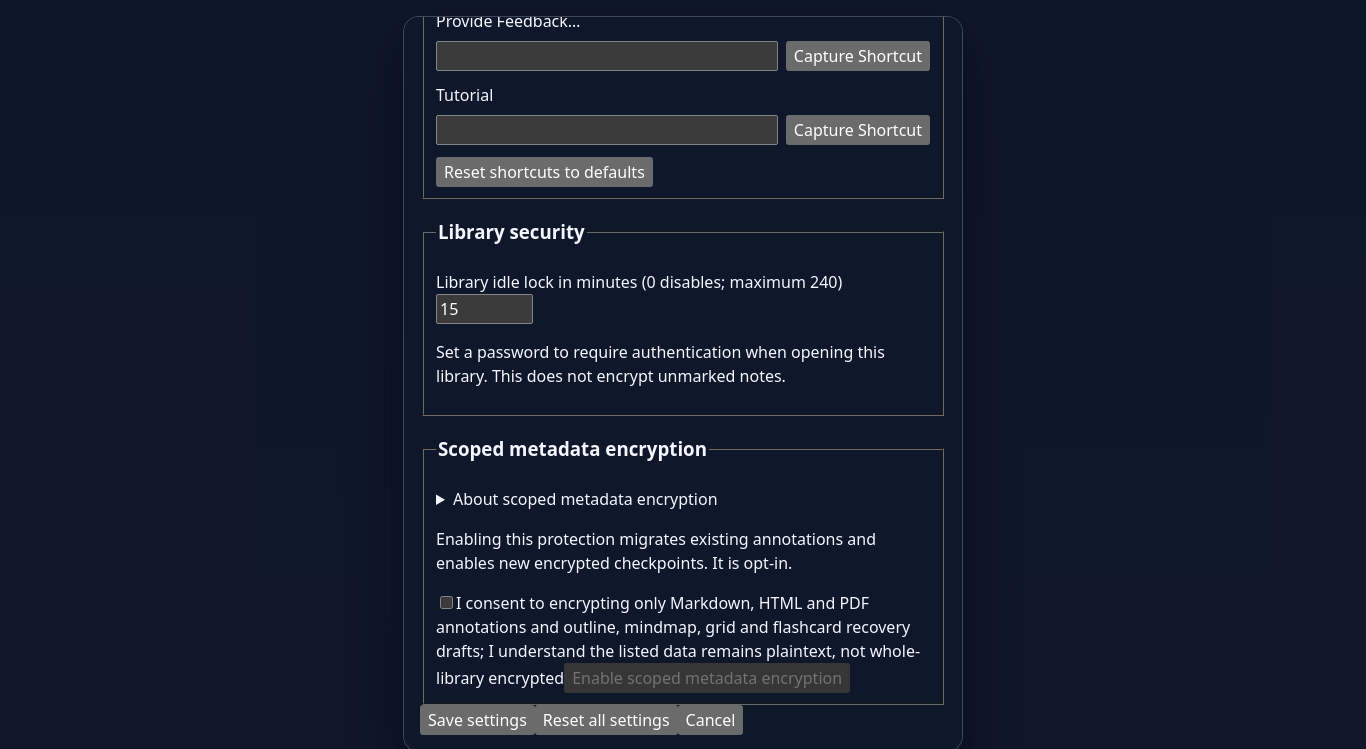
scoped metadata encryption consent › requires explicit exclusion acknowledgement and announces successful enablement
(page scrolled)
Expected: the button "Enable scoped metadata encryption" is disabled, top-left (564, 663), bottom-right (850, 693)
Click the checkbox labelled "I consent to encrypting only Markdown, HTML and PDF annotations" at (446, 603), box top-left (440, 596), bottom-right (453, 609)
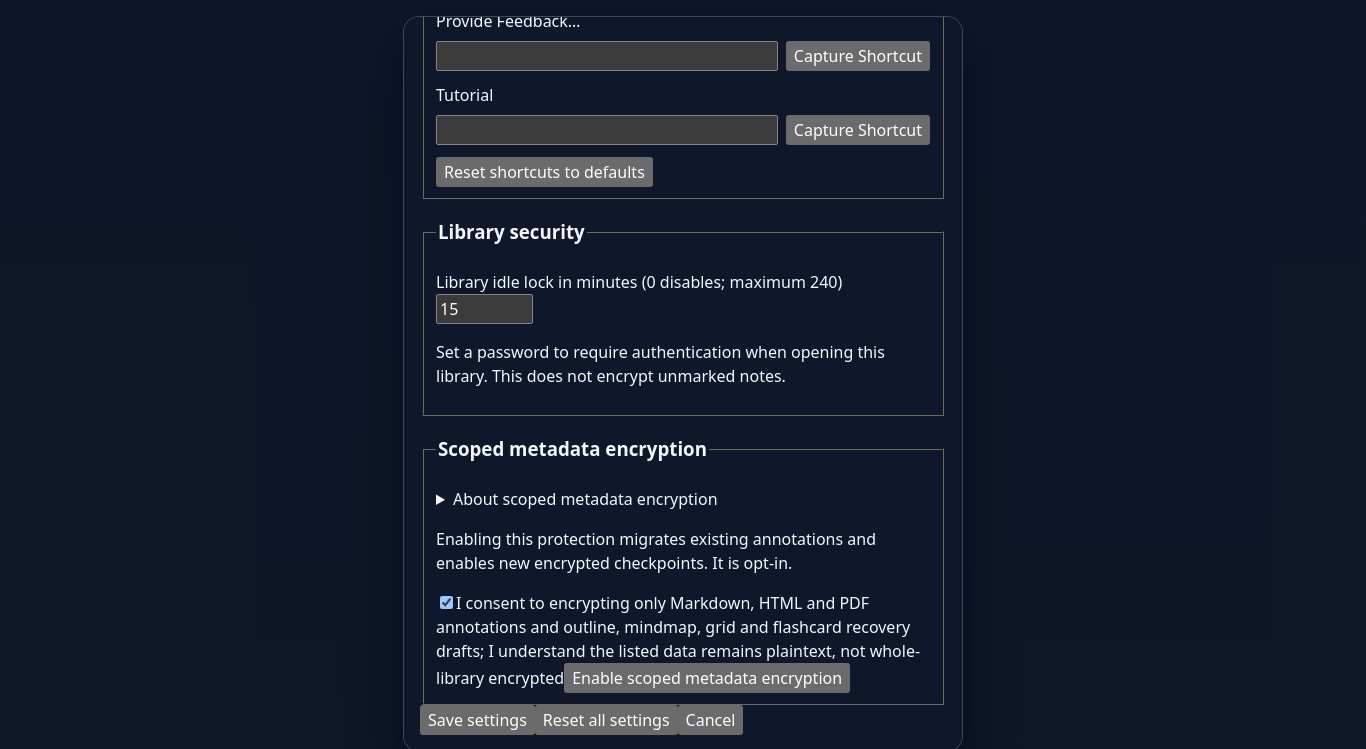
Click the button "Enable scoped metadata encryption" at (707, 678), box top-left (564, 663), bottom-right (850, 693)
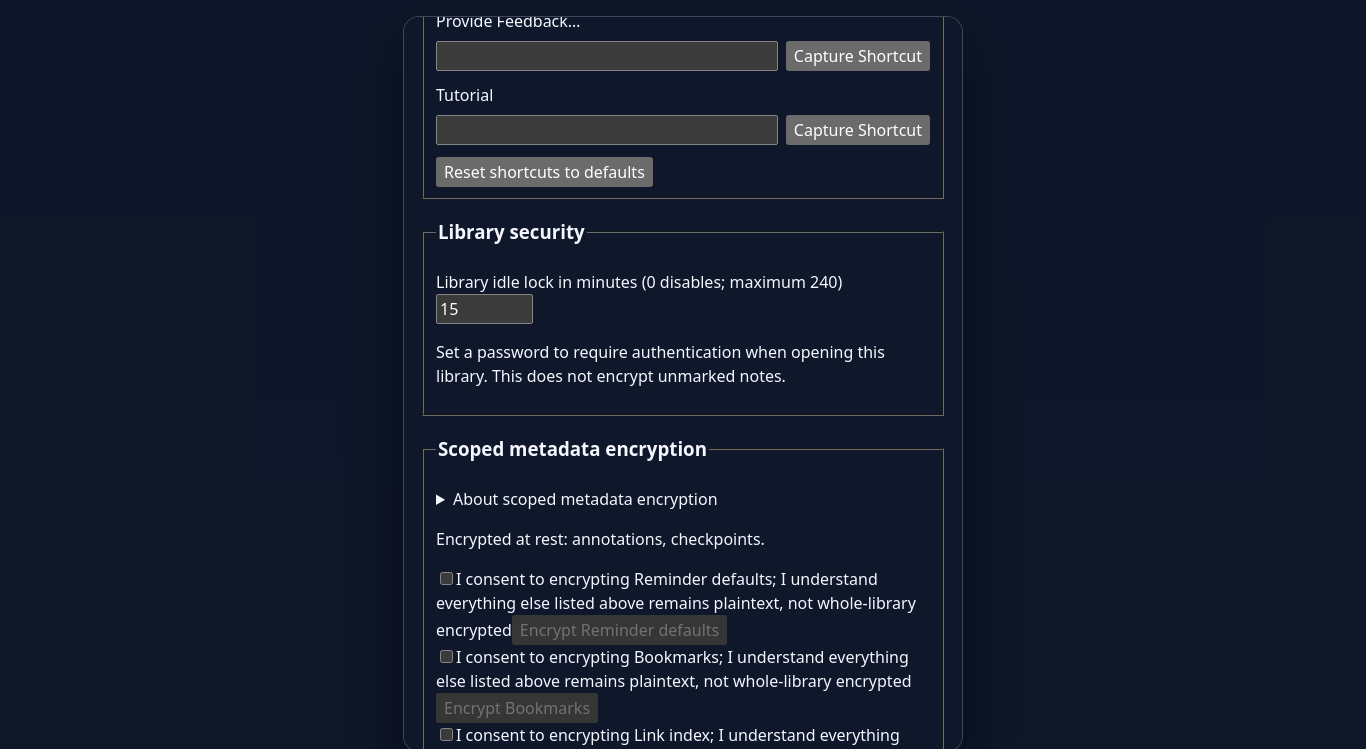
Expected: the text "Encrypted at rest: annotations, checkpoints." is shown, top-left (436, 528), bottom-right (765, 550)
Expected: the button "Enable scoped metadata encryption" is gone
